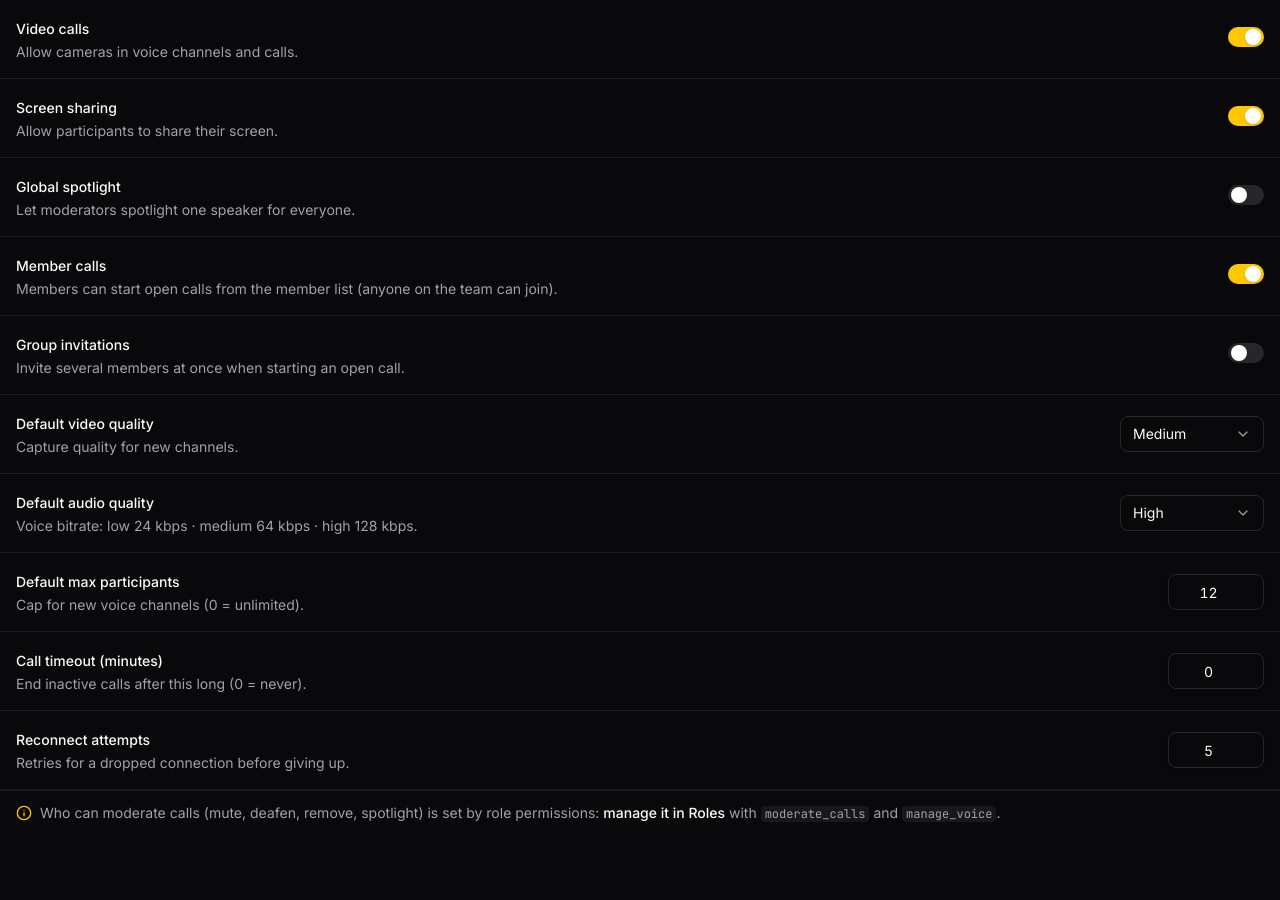
Test case: Modern calls policy › saves the same clamped body as Classic, and Save only shows when something changed
Expected: the button "Save calls policy" is not shown
Click the switch named "Screen sharing" in the row of "Screen sharing" at (1246, 116), box [1228,106,1264,126]
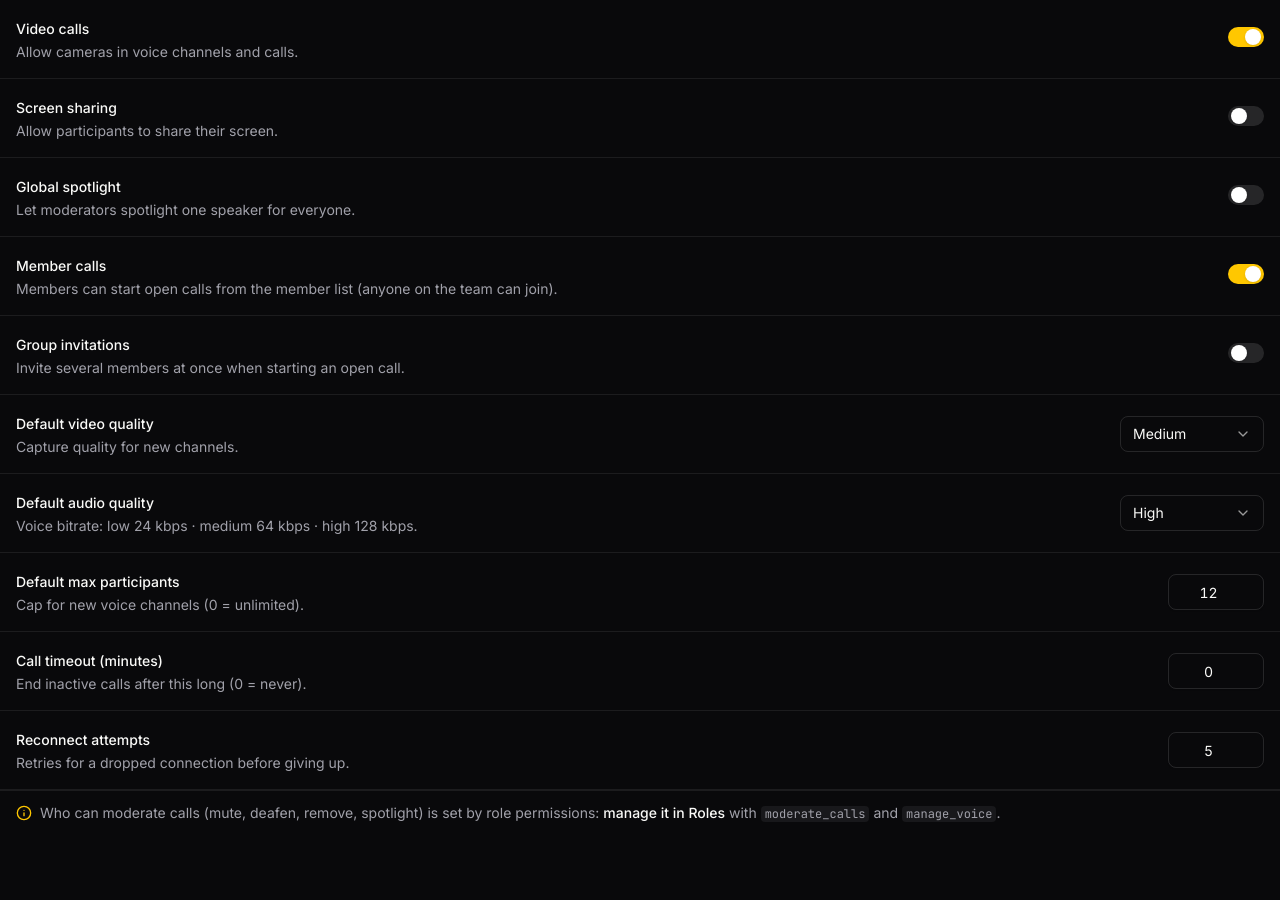
Replace the text in the number field labelled "Reconnect attempts" with "99" at (1216, 750), box [1168,732,1264,768]
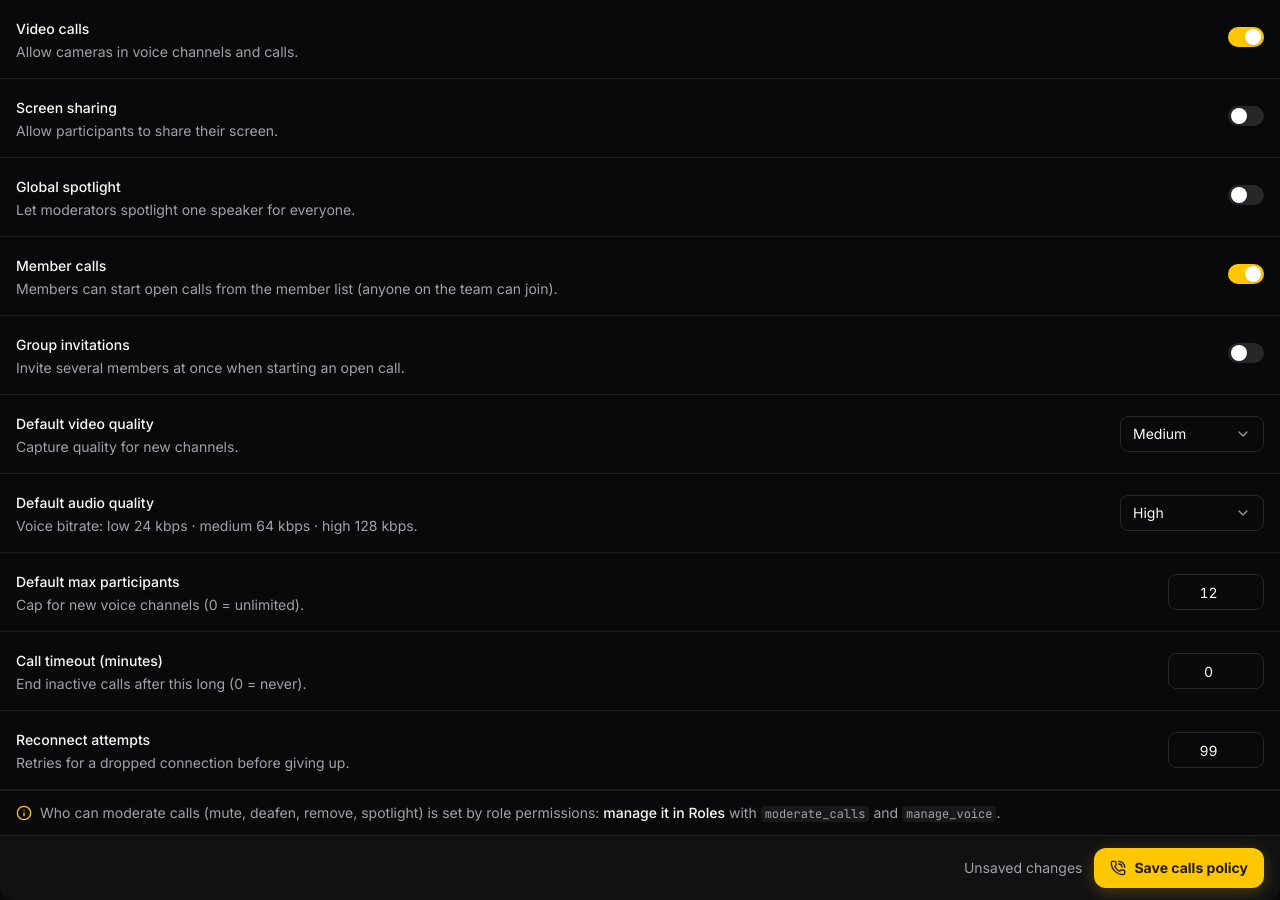
Click the button "Save calls policy" at (1179, 868), box [1094,848,1264,888]
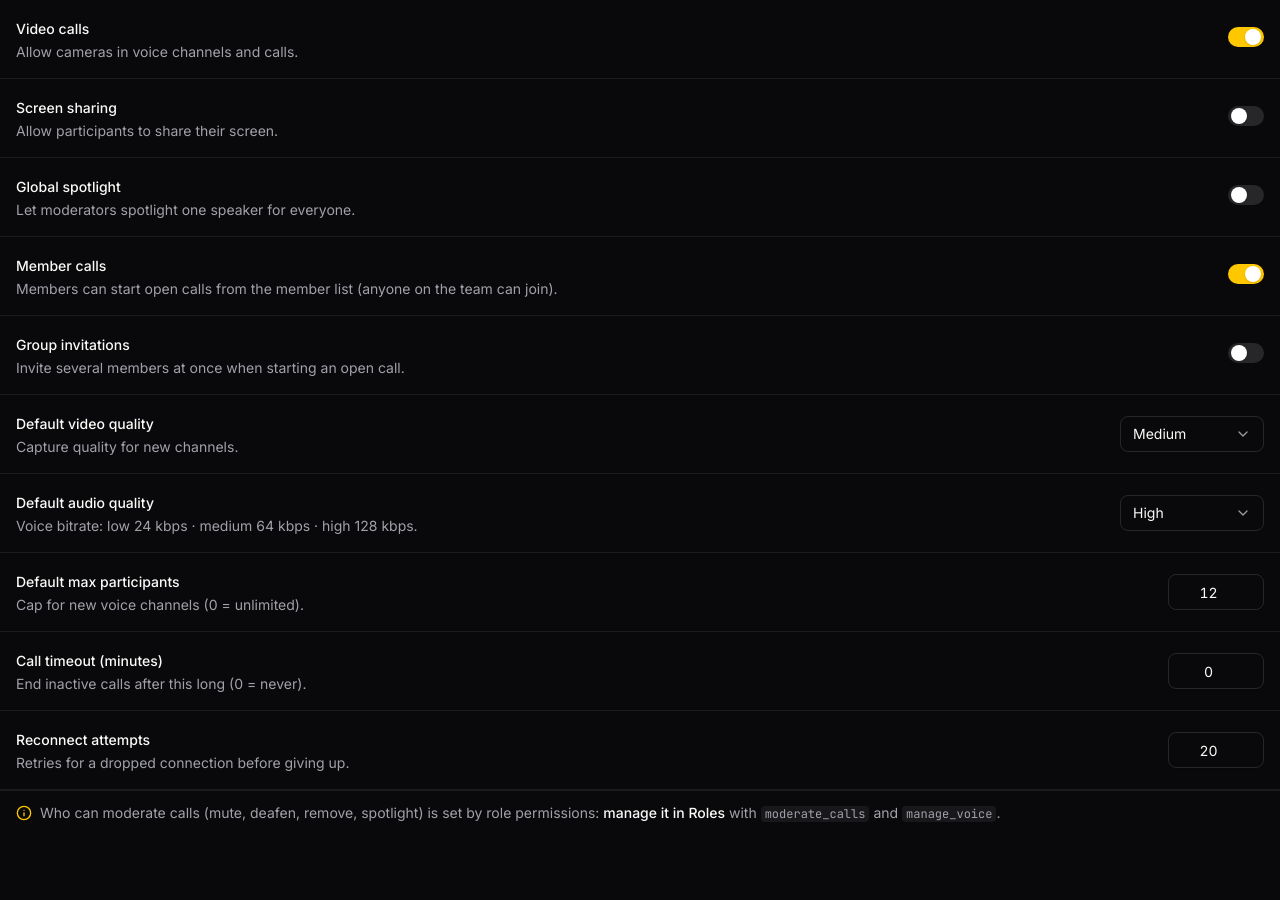
Now the button "Save calls policy" is gone
